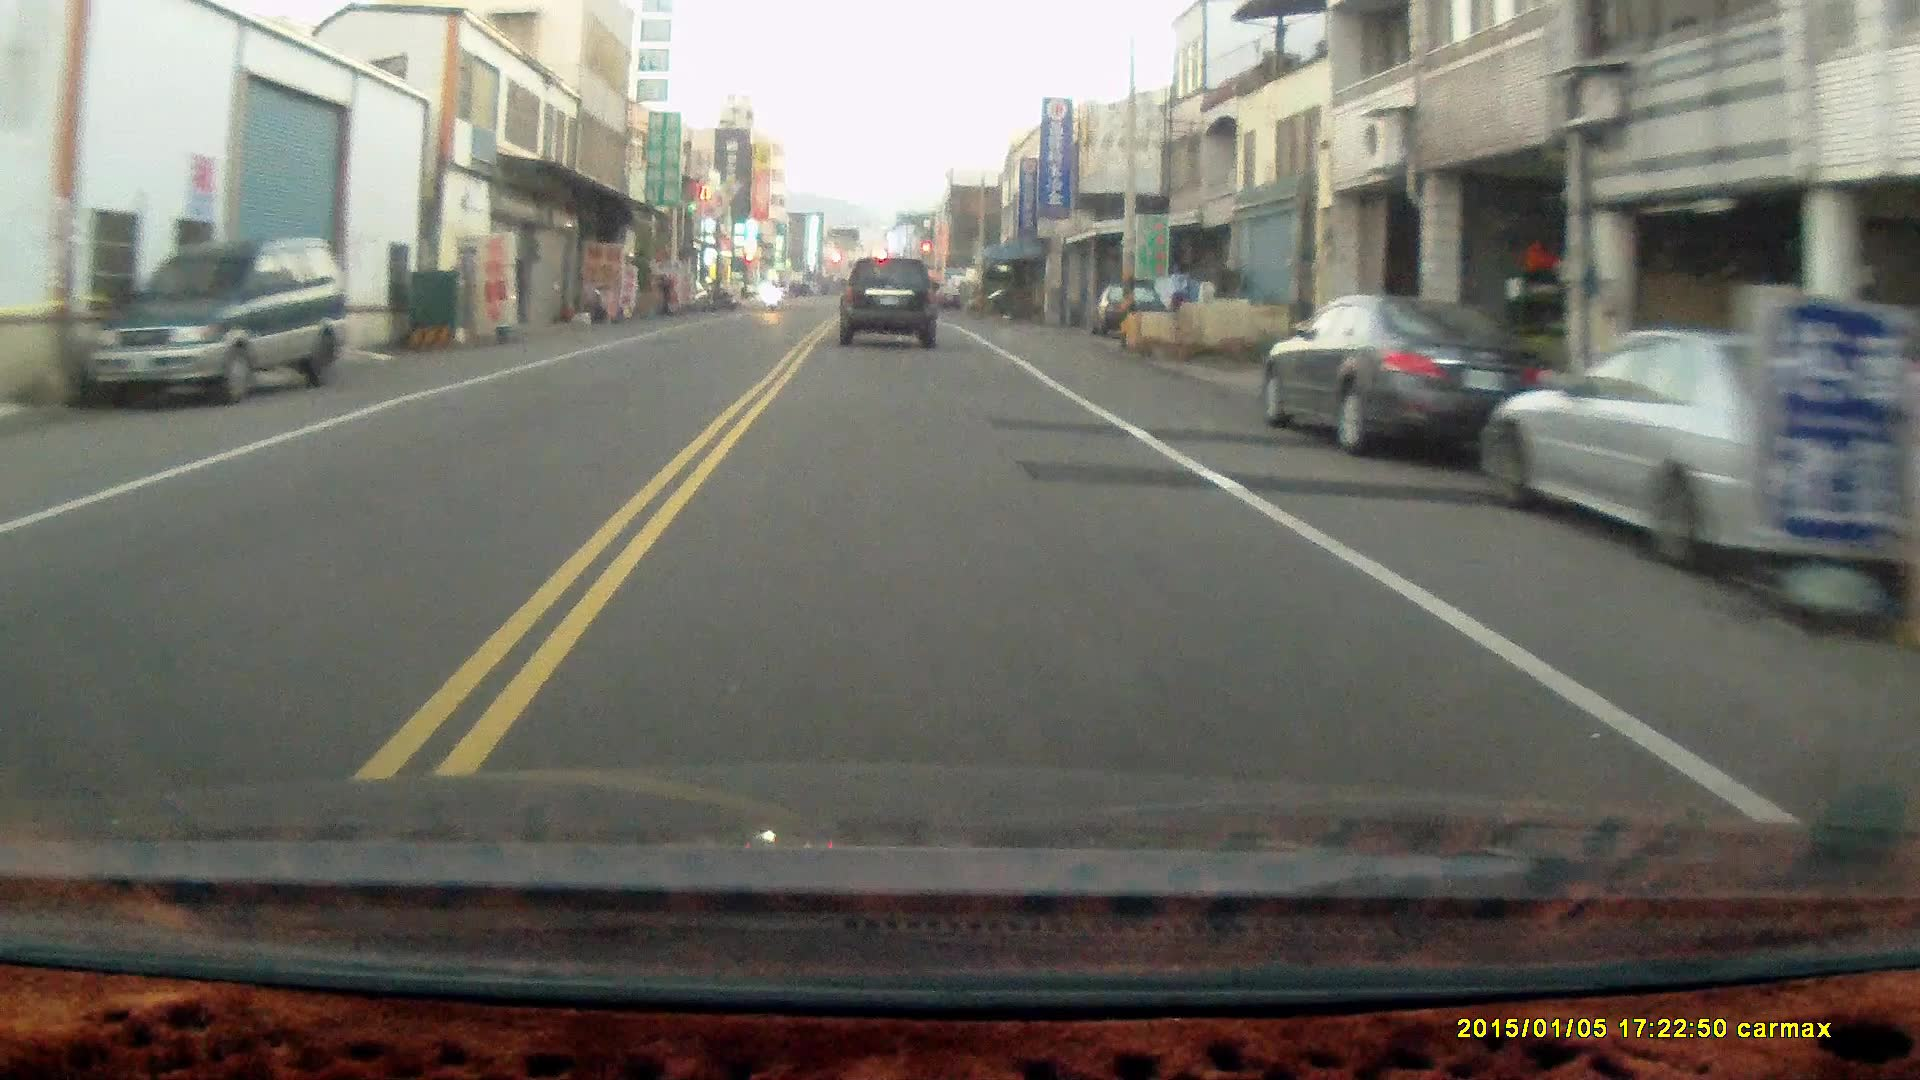pedestrian: (653, 270, 673, 320)
vehicle: (1485, 329, 1920, 562), (1262, 293, 1562, 460), (81, 236, 344, 404), (839, 258, 941, 349)
